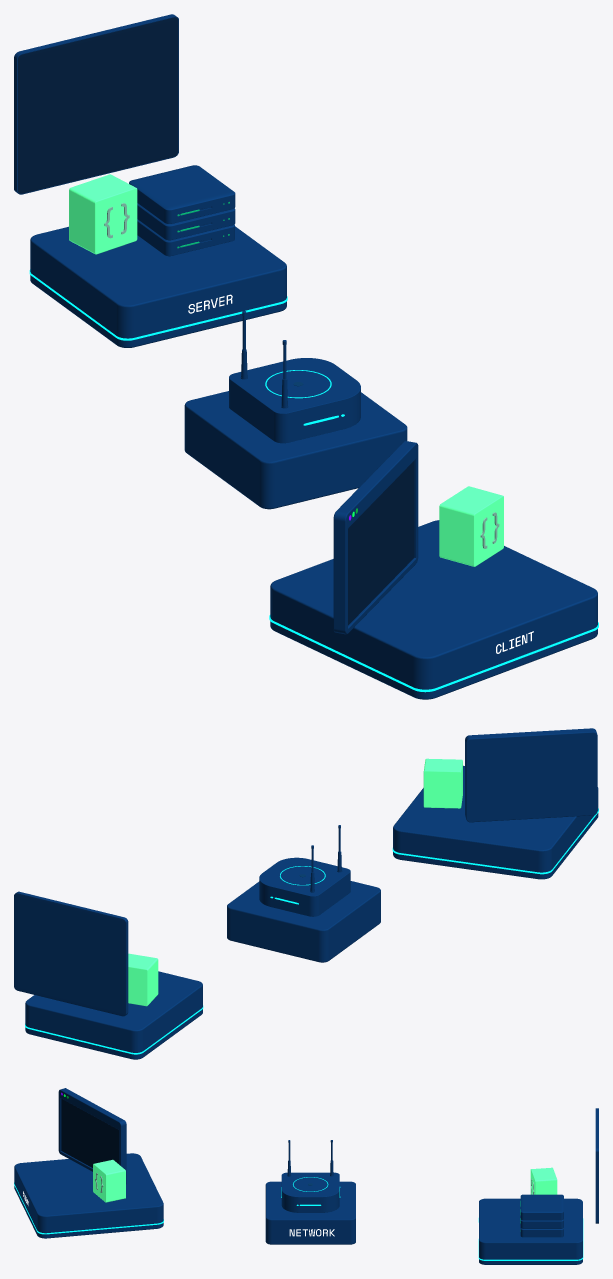
File: json_flow-Bi1LHENh.glb
3 views of the same model, one above another, from view 1: azimuth 30°, elevation 25°; view 2: azimuth 150°, elevation 25°; view 3: azimuth 270°, elevation 25° (orthographic). The views are drawn at different scales.
Visible parts, largest first — view 1: ClientPlatform, ServerScreenDark, ServerPlatform, NetworkPlatform, RouterPlatform, Machine, ScreenJsonDark, ScreenJson, ServerGreenJson, GreenJson, ServerScreen, ClientGlowLine; view 2: ScreenJson, ServerScreen, ClientPlatform, ServerPlatform, NetworkPlatform, RouterPlatform, GreenJson, ServerGreenJson, ClientGlowLine; view 3: ClientPlatform, ServerPlatform, NetworkPlatform, ScreenJsonDark, RouterPlatform, Machine, ScreenJson, GreenJson, ServerGreenJson, ServerScreen, ClientGlowLine, ServerGlowLine.
Boxes of the visible parts, x1,y1,x2,y2 form: ClientPlatform: [270, 520, 597, 699]; ServerScreenDark: [18, 17, 178, 193]; ServerPlatform: [30, 226, 286, 347]; NetworkPlatform: [184, 391, 407, 509]; RouterPlatform: [229, 358, 360, 443]; Machine: [129, 165, 235, 256]; ScreenJsonDark: [348, 461, 414, 625]; ScreenJson: [333, 441, 418, 634]; ServerGreenJson: [69, 174, 137, 254]; GreenJson: [439, 486, 503, 566]; ServerScreen: [14, 14, 178, 194]; ClientGlowLine: [269, 615, 598, 692]; ScreenJson: [465, 728, 597, 822]; ServerScreen: [14, 891, 128, 1016]; ClientPlatform: [393, 765, 598, 879]; ServerPlatform: [25, 971, 202, 1059]; NetworkPlatform: [227, 881, 380, 962]; RouterPlatform: [259, 857, 350, 916]; GreenJson: [423, 758, 462, 808]; ServerGreenJson: [128, 953, 158, 1006]; ClientGlowLine: [392, 808, 598, 874]; ClientPlatform: [14, 1153, 163, 1238]; ServerPlatform: [479, 1198, 582, 1264]; NetworkPlatform: [265, 1181, 355, 1244]; ScreenJsonDark: [61, 1098, 118, 1167]; RouterPlatform: [281, 1172, 339, 1212]; Machine: [520, 1194, 563, 1237]; ScreenJson: [58, 1088, 126, 1183]; GreenJson: [93, 1159, 125, 1202]; ServerGreenJson: [530, 1167, 557, 1194]; ServerScreen: [595, 1108, 598, 1223]; ClientGlowLine: [14, 1182, 163, 1234]; ServerGlowLine: [478, 1218, 583, 1260].
Size of the model in its own units: 3.31 by 1.97 by 9.06.
